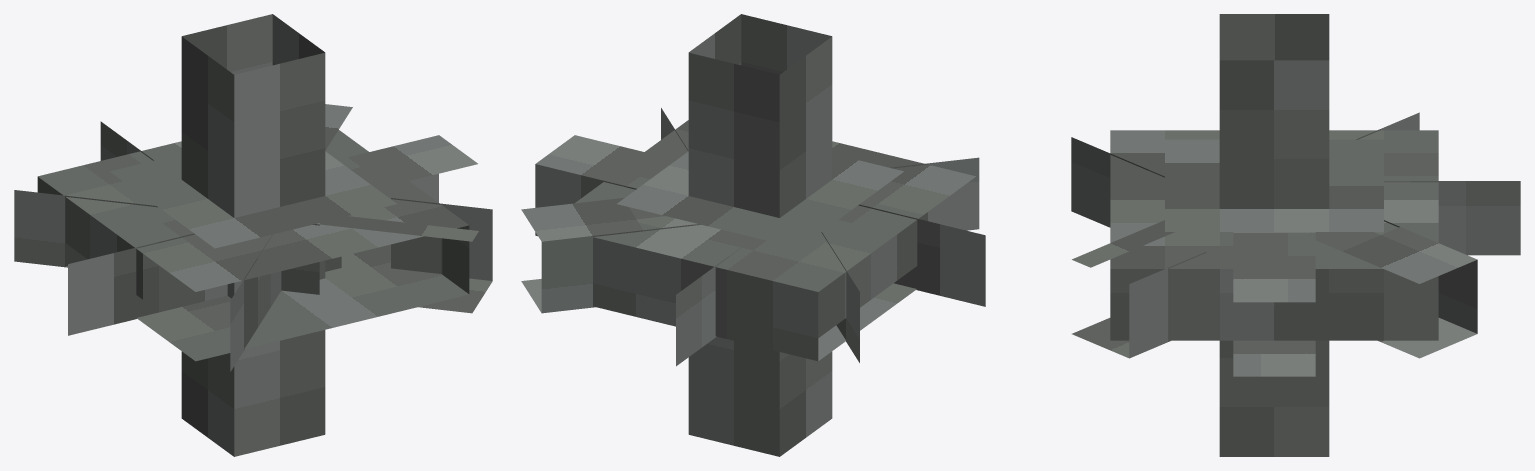
File: cogwheel.obj
3 renders of one model, left to right at view 1: azimuth 30°, elevation 25°; view 2: azimuth 150°, elevation 25°; view 3: azimuth 270°, elevation 25°, orthographic. The views are drawn at different scales.
Parts seen in each view (by area): view 1: Axis, GearCaseInner, Gear, Gear3, GearCaseOuter, Gear2, Gear4; view 2: Axis, GearCaseInner, Gear, Gear2, GearCaseOuter, Gear4, Gear3; view 3: GearCaseInner, Axis, GearCaseOuter, Gear2, Gear, Gear4, Gear3.
Part boxes in pixels (x1,y1,x2,y2): Axis: (181,14,325,456); GearCaseInner: (37,130,469,361); Gear: (68,135,477,335); Gear3: (14,190,492,313); GearCaseOuter: (110,151,396,248); Gear2: (230,104,352,371); Gear4: (100,121,153,160); Axis: (688,14,832,456); GearCaseInner: (575,120,975,361); Gear: (535,135,985,306); Gear2: (521,157,979,313); GearCaseOuter: (617,151,903,248); Gear4: (676,237,754,366); Gear3: (661,108,859,362); GearCaseInner: (1110,130,1438,340); Axis: (1219,14,1329,456); GearCaseOuter: (1165,139,1383,231); Gear2: (1071,137,1477,358); Gear: (1233,232,1315,376); Gear4: (1384,181,1520,255); Gear3: (1072,112,1419,358).
Bounding box in the file's own units: 1.12 × 1 × 1.12.
